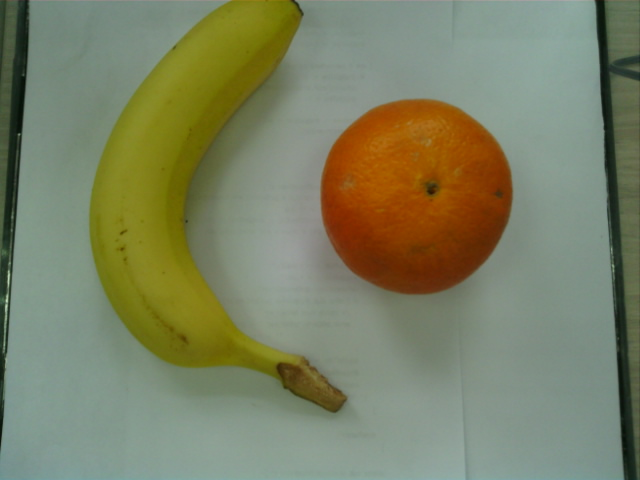normal_banana: (93, 1, 305, 381)
normal_orange: (322, 98, 516, 295)
